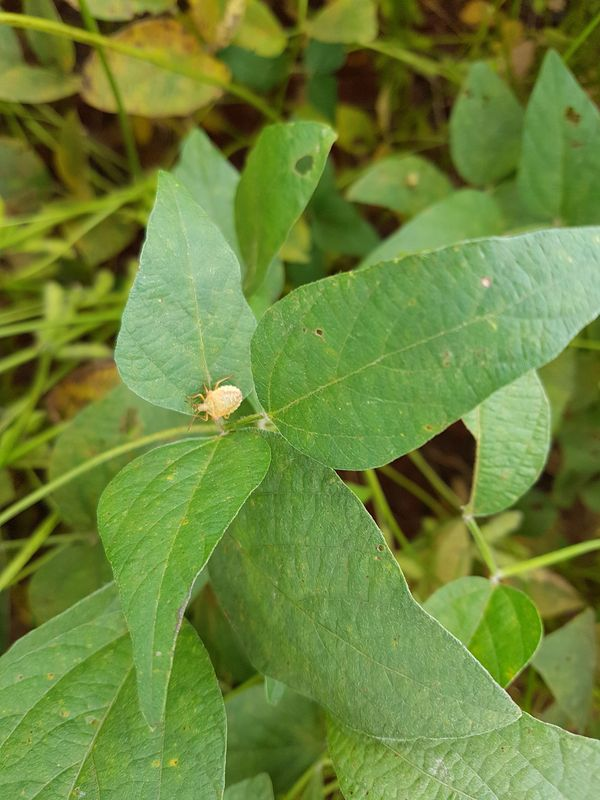Euschistus_heros_ninfa: (179, 367, 257, 437)
